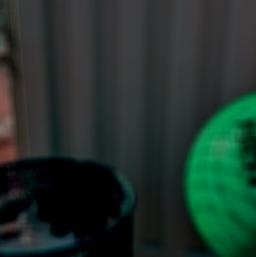algae: (180, 83, 256, 257)
